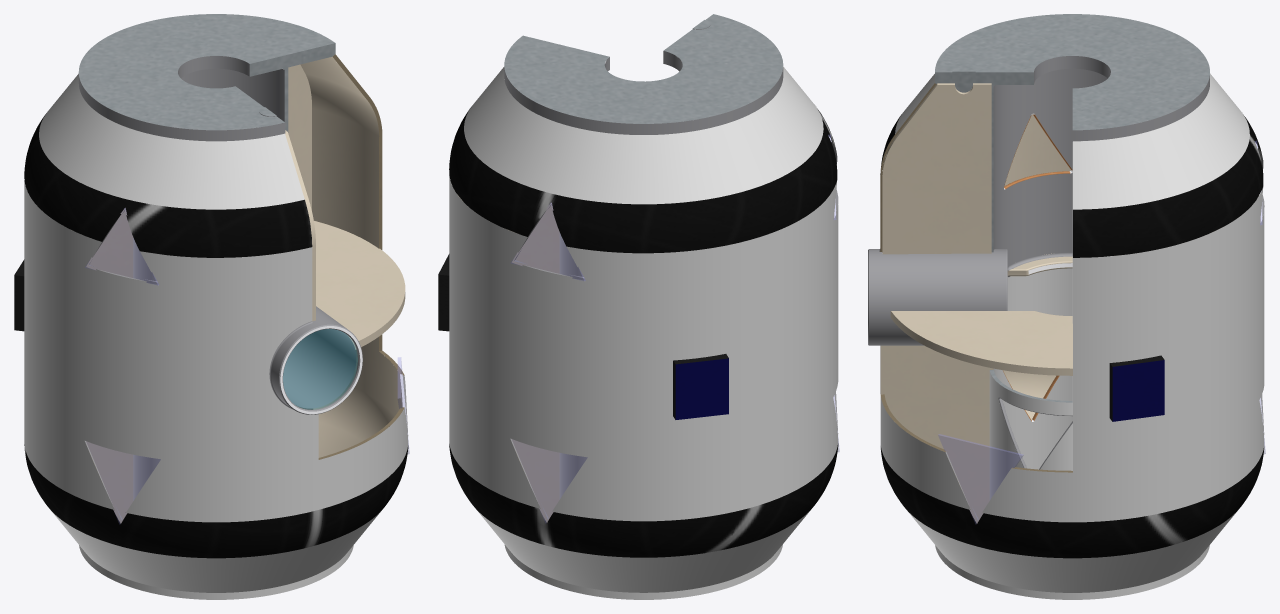
File: fixedhab.glb
3 renders of one model, left to right at view 1: azimuth 30°, elevation 25°; view 2: azimuth 150°, elevation 25°; view 3: azimuth 270°, elevation 25°, orthographic.
Size of the model in its own units: 0.0382 by 0.0509 by 0.039.
16 materials, 7 textured.
